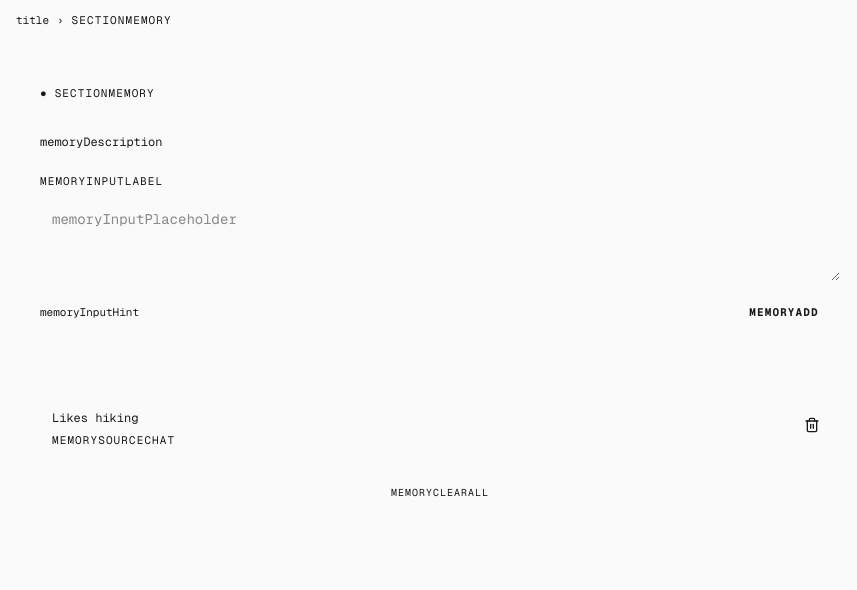
Test: memory settings page › adds a manual memory after server confirmation
The width and height of the screenshot is (857, 590).
Expected: the text "Likes hiking" is shown, 52,410 -> 138,426
Type "  Prefers examples  " into the text box labelled "memoryInputLabel" at (440, 239), box 40,197 -> 840,281
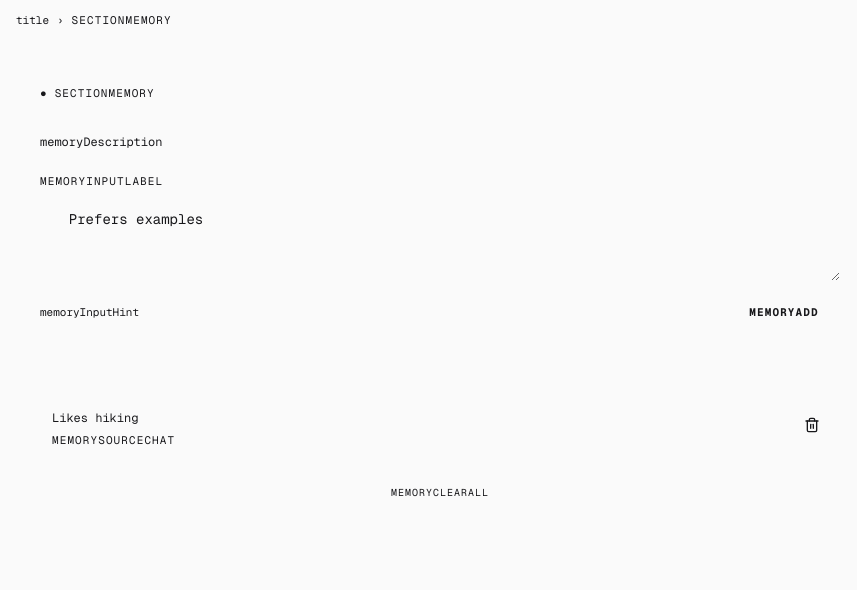
Click the button "memoryAdd" at (784, 312), box 728,296 -> 840,328
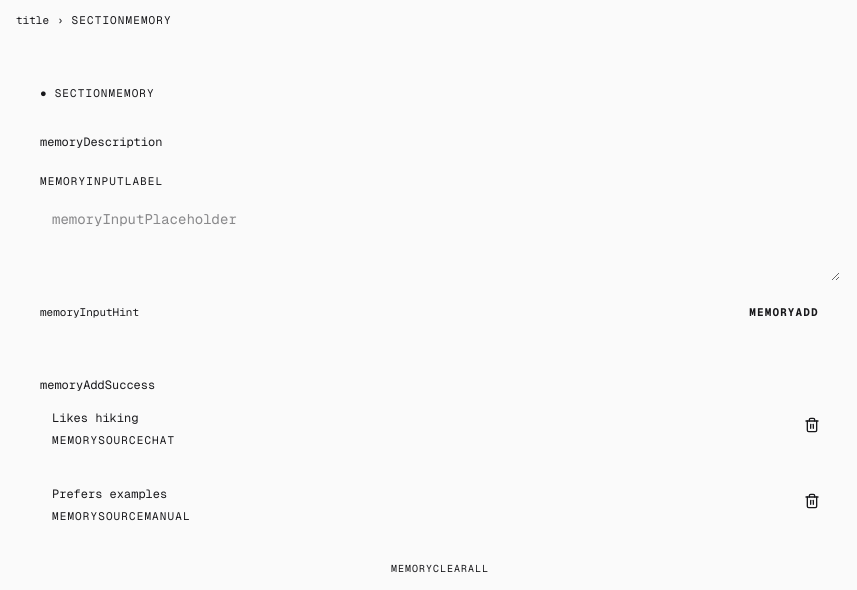
Now the text "Prefers examples" is shown, box 52,486 -> 167,502
